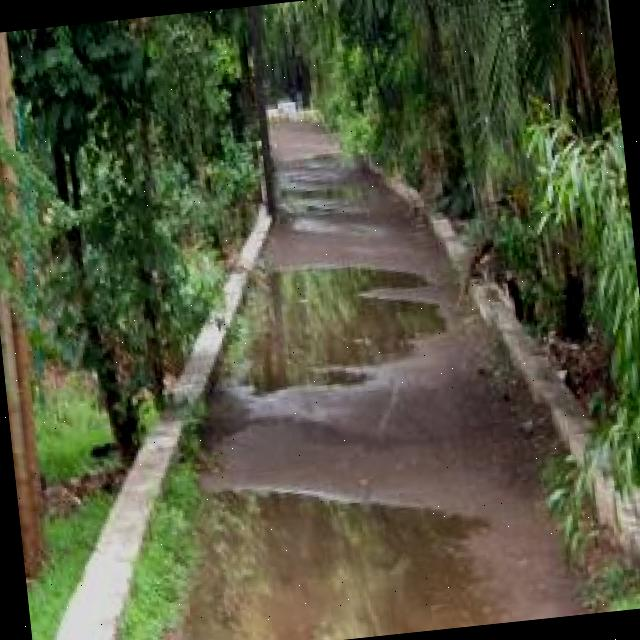stagnation: (281, 251, 454, 398)
